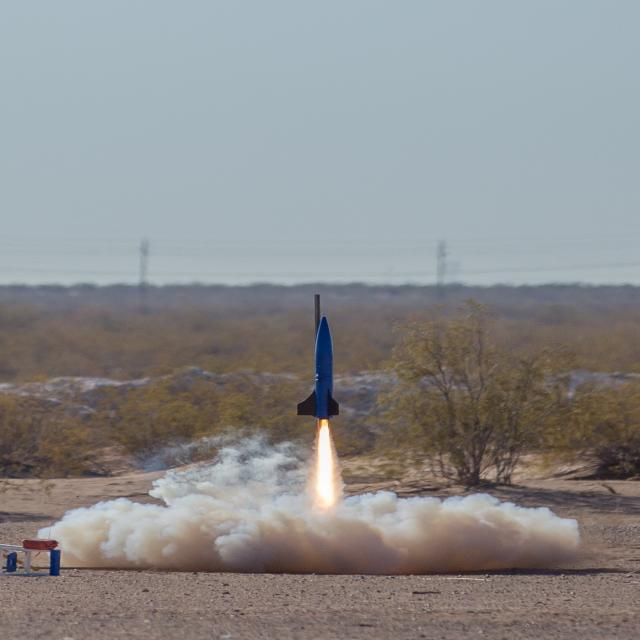Rocket: (296, 310, 341, 422)
